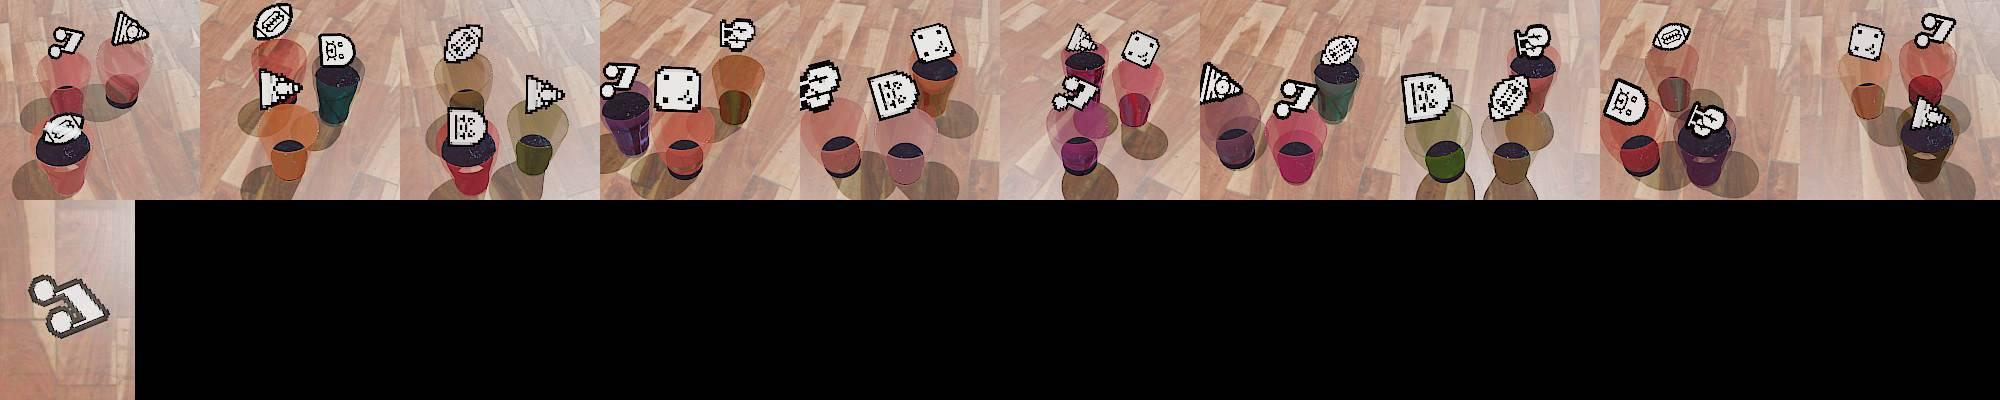icon: (29, 274, 112, 339), (867, 70, 921, 122), (1401, 70, 1452, 124), (653, 65, 703, 113), (1602, 78, 1651, 126), (797, 60, 842, 111), (1487, 73, 1531, 121), (1273, 75, 1320, 117), (259, 66, 304, 110), (909, 22, 955, 64), (251, 1, 295, 43), (1199, 61, 1241, 104), (1051, 74, 1098, 112), (524, 73, 566, 113), (443, 23, 483, 65), (448, 106, 487, 146), (1120, 29, 1161, 69), (1911, 97, 1953, 135), (1685, 101, 1727, 138), (1316, 33, 1360, 69), (601, 61, 642, 98), (40, 112, 87, 144), (1847, 22, 1884, 61), (111, 10, 151, 47), (318, 32, 356, 69), (1916, 13, 1957, 47), (719, 18, 758, 54), (1513, 23, 1551, 59), (48, 25, 88, 60), (1065, 22, 1099, 54), (1654, 22, 1691, 51)
